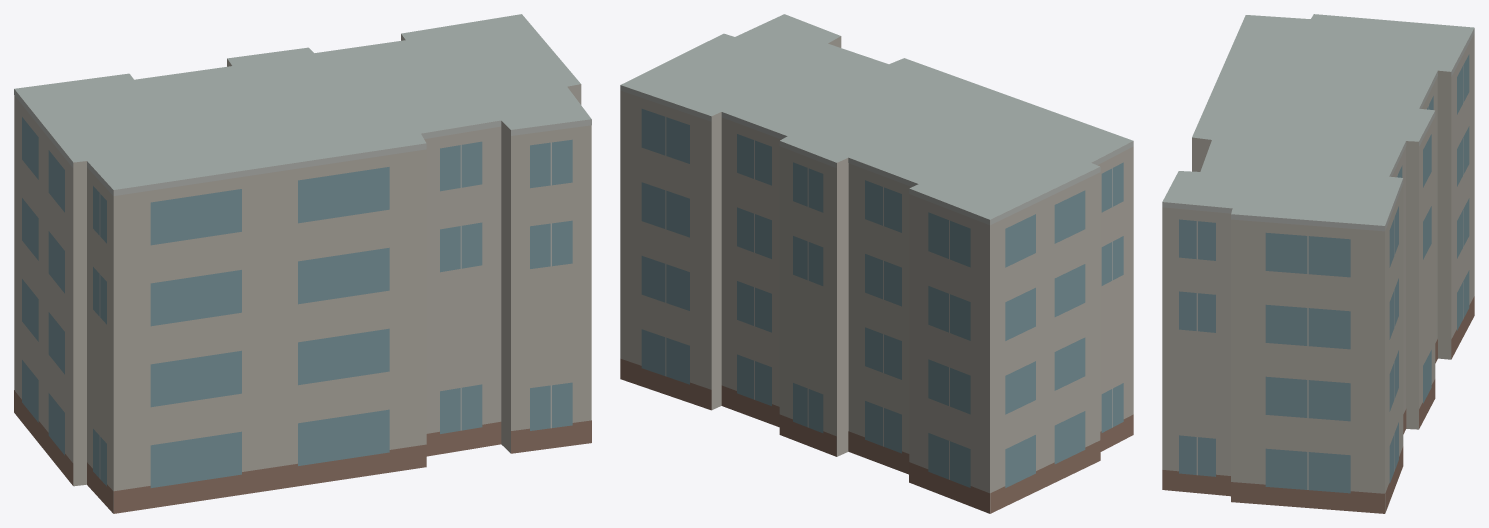
Rendered from survey-upis-32590184.glb.
3 renders of one model, left to right at view 1: azimuth 30°, elevation 25°; view 2: azimuth 150°, elevation 25°; view 3: azimuth 270°, elevation 25°, orthographic. The views are drawn at different scales.
Visible parts, largest first — view 1: survey-upis-32590184.tmp; view 2: survey-upis-32590184.tmp; view 3: survey-upis-32590184.tmp.
Part boxes in pixels (x1=…): survey-upis-32590184.tmp: x1=14, y1=14, x2=591, y2=513; survey-upis-32590184.tmp: x1=620, y1=14, x2=1133, y2=513; survey-upis-32590184.tmp: x1=1162, y1=14, x2=1474, y2=513.
Bounding box in the file's own units: 20.54 × 13 × 12.79.
